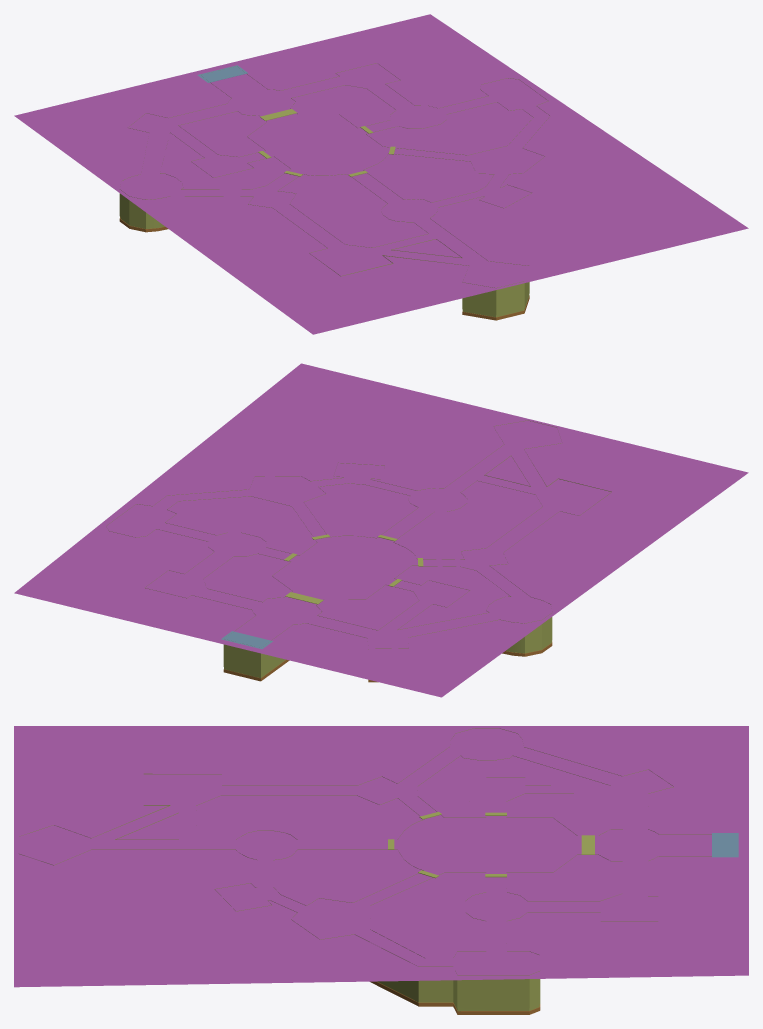
The model's file is Cripta.fbx.
3 renders of one model, top to bottom at view 1: azimuth 30°, elevation 25°; view 2: azimuth 150°, elevation 25°; view 3: azimuth 270°, elevation 25°, orthographic. The views are drawn at different scales.
Parts seen in each view (by area): view 1: Teto, Paredes; view 2: Teto, Paredes; view 3: Teto, Paredes, Chao, Escada.
Part boxes in pixels (box(x1,y1,x2,y2)): Teto: box(14, 14, 748, 334); Paredes: box(119, 63, 549, 317); Teto: box(14, 363, 748, 697); Paredes: box(107, 420, 611, 678); Teto: box(14, 726, 748, 987); Paredes: box(19, 728, 711, 1011); Chao: box(370, 981, 540, 1014); Escada: box(712, 833, 738, 857).
Bounding box in the file's own units: 6483 × 466 × 7708.
